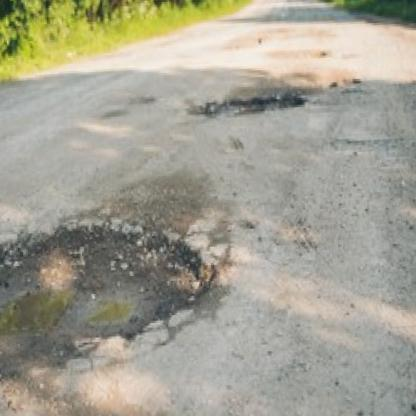pothole: (0, 212, 200, 369), (189, 91, 307, 122)
